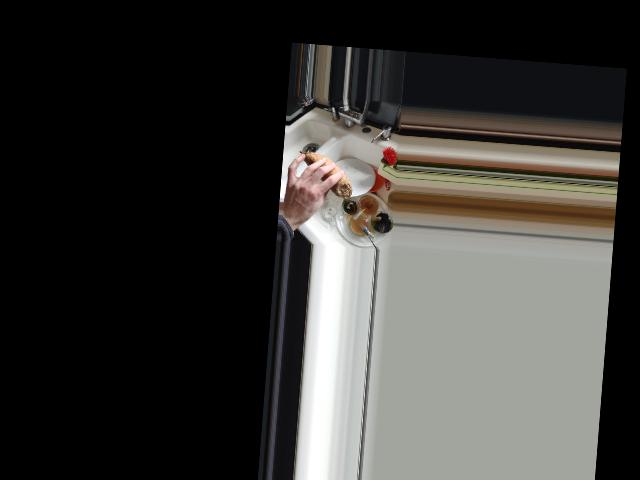sweet_potato: (295, 151, 353, 198)
